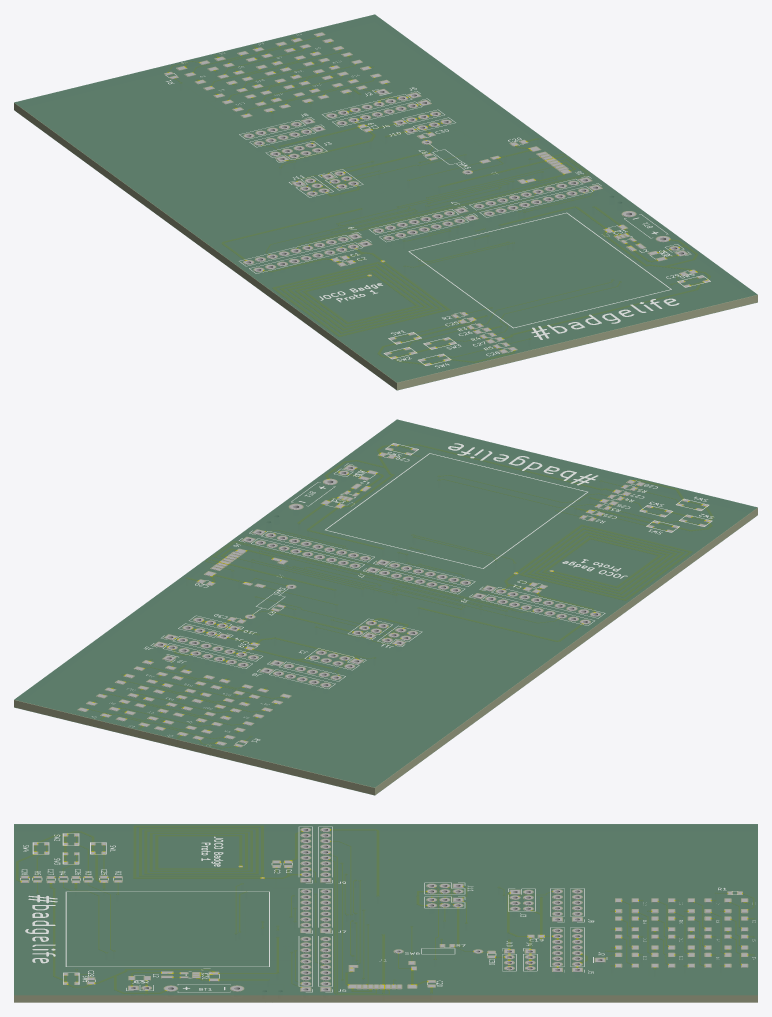
The model's file is joco-2018-badge.glb.
The picture shows the model from 3 angles, top to bottom: view 1: azimuth 30°, elevation 25°; view 2: azimuth 150°, elevation 25°; view 3: azimuth 270°, elevation 25°; orthographic projection. The views are drawn at different scales.
Parts seen in each view (by area): view 1: =>[0:1:1:7], =>[0:1:1:9], =>[0:1:1:2], =>[0:1:1:5]; view 2: =>[0:1:1:7], =>[0:1:1:9], =>[0:1:1:2], =>[0:1:1:5]; view 3: =>[0:1:1:7], =>[0:1:1:9], =>[0:1:1:2], =>[0:1:1:5].
Boxes of the visible parts, x1,y1,x2,y2 form: =>[0:1:1:7]: (14,14,757,390); =>[0:1:1:9]: (14,15,757,390); =>[0:1:1:2]: (165,33,710,365); =>[0:1:1:5]: (165,34,710,368); =>[0:1:1:7]: (14,419,757,795); =>[0:1:1:9]: (14,420,757,795); =>[0:1:1:2]: (78,444,713,747); =>[0:1:1:5]: (92,443,713,745); =>[0:1:1:7]: (14,824,757,995); =>[0:1:1:9]: (14,825,757,1002); =>[0:1:1:2]: (16,826,753,993); =>[0:1:1:5]: (20,826,755,1002).
Size of the model in its own units: 0.0776 by 0.00166 by 0.1426.
Materials: 4 (4 with a texture image).
